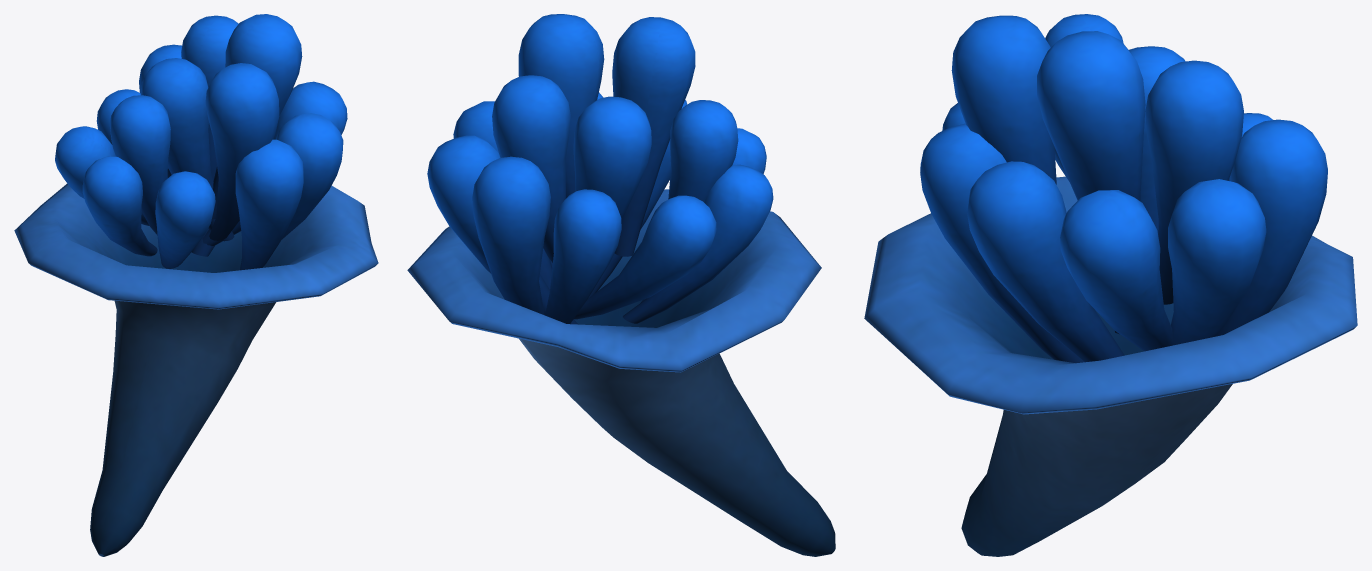
Rendered from Cartoon Seaweed_13-2-29.fbx.
The picture shows the model from 3 angles, left to right: view 1: azimuth 30°, elevation 25°; view 2: azimuth 150°, elevation 25°; view 3: azimuth 270°, elevation 25°; orthographic projection. The views are drawn at different scales.
Parts seen in each view (by area): view 1: Cartoon Seaweed_13.2.29; view 2: Cartoon Seaweed_13.2.29; view 3: Cartoon Seaweed_13.2.29.
Boxes of the visible parts, x1,y1,x2,y2 form: Cartoon Seaweed_13.2.29: (14, 14, 378, 556); Cartoon Seaweed_13.2.29: (407, 14, 835, 556); Cartoon Seaweed_13.2.29: (864, 14, 1357, 556).
Size of the model in its own units: 18.07 by 24.84 by 17.19.
1 material, 1 textured.
